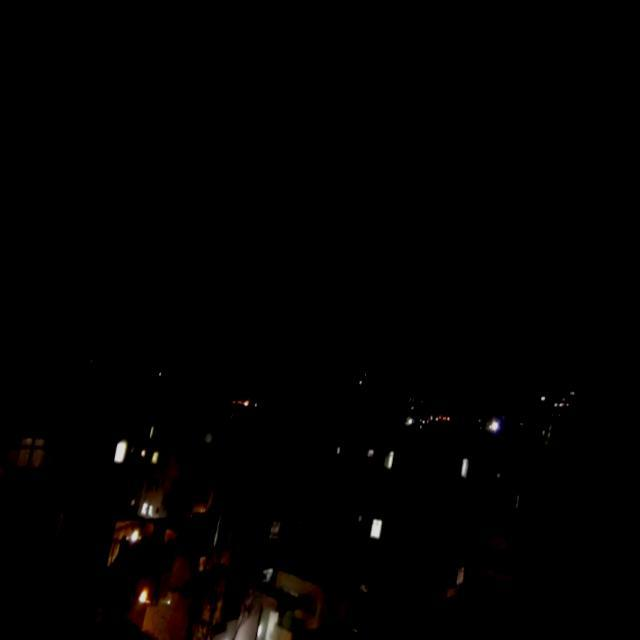Fire: (247, 392, 264, 402)
